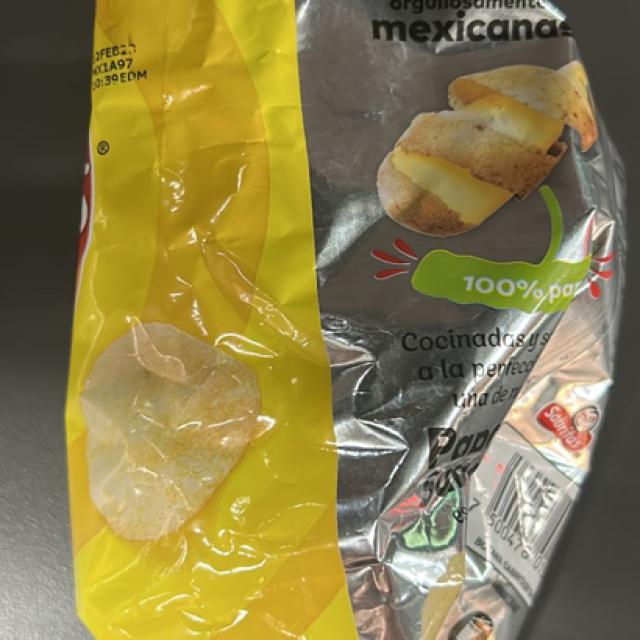productoAtras: (336, 2, 604, 610)
sabritasOriginal: (84, 12, 286, 634)
